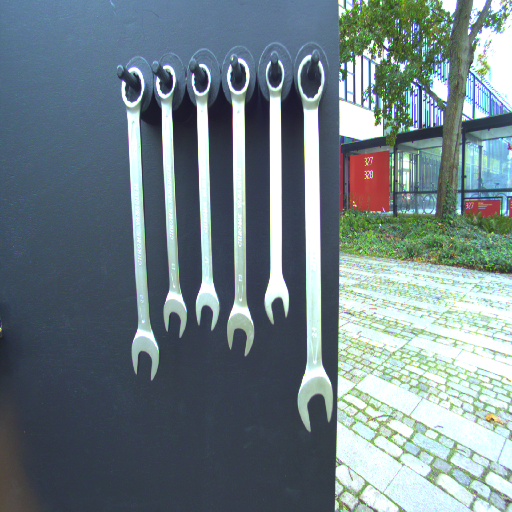bottom: (295, 371, 334, 433), (128, 327, 162, 383), (225, 302, 256, 358), (262, 276, 292, 325), (193, 285, 222, 333), (161, 289, 186, 339)
top: (295, 51, 327, 107), (116, 63, 148, 115), (225, 56, 249, 101), (263, 58, 286, 98), (154, 64, 178, 101), (190, 63, 213, 101)
